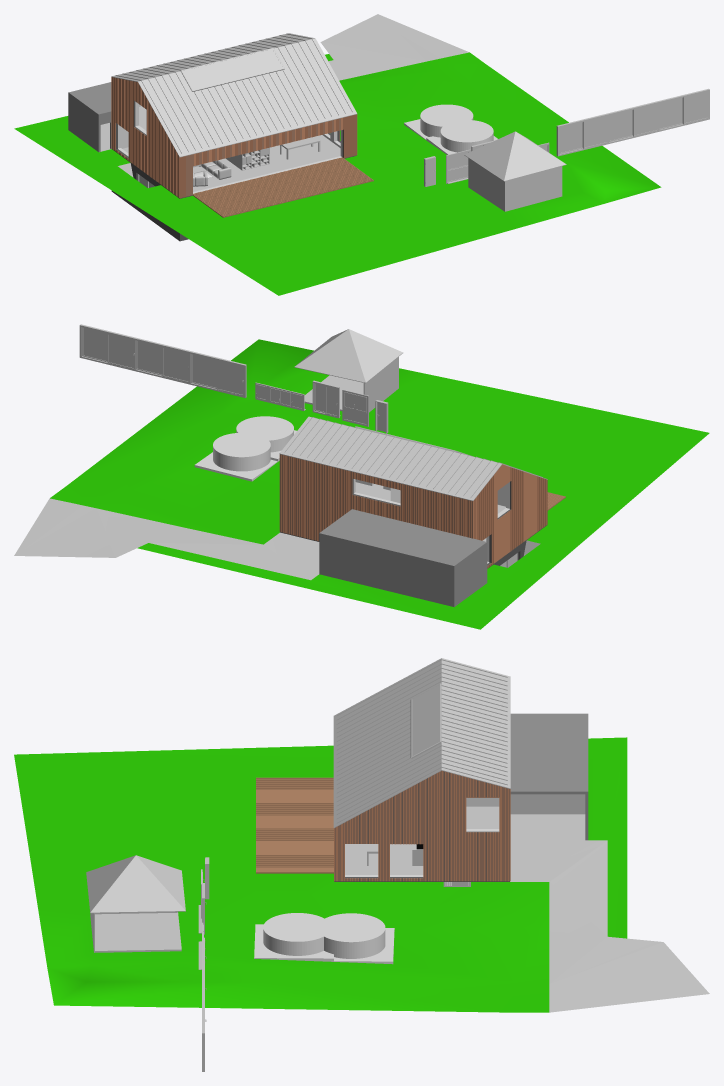
Rendered from VR_haus_langendorf.fbx.
The picture shows the model from 3 angles, top to bottom: view 1: azimuth 30°, elevation 25°; view 2: azimuth 150°, elevation 25°; view 3: azimuth 270°, elevation 25°; orthographic projection. The views are drawn at different scales.
Parts seen in each view (by area): view 1: umgebung, deckeOG, gartenhaus, aussenwand_nord, terasse, aussenwand_west, pool, garage, bodenEG, fensterfront_glas, fensterfront, fensterfront_schiebetuer_2_glas (+3 smaller); view 2: umgebung, garage, deckeOG, aussenwand_ost, aussenwand_nord, gartenhaus, pool, fensterfront_glas, fensterfront, fensterfront_schiebetuer_3_glas, fensterfront_schiebetuer_2_glas, fensterfront_schiebetuer_1_glas; view 3: umgebung, deckeOG, aussenwand_sued, gartenhaus, terasse, garage, pool, bodenEG, garagen_tor, boden_OG.
Boxes of the visible parts, left/top/right/bottom form: umgebung: left=14, top=14, right=661, bottom=295; deckeOG: left=111, top=33, right=357, bottom=157; gartenhaus: left=464, top=131, right=566, bottom=211; aussenwand_nord: left=111, top=77, right=179, bottom=241; terasse: left=193, top=157, right=373, bottom=217; aussenwand_west: left=180, top=114, right=356, bottom=241; pool: left=404, top=104, right=497, bottom=154; garage: left=68, top=82, right=111, bottom=152; bodenEG: left=122, top=135, right=340, bottom=191; fensterfront_glas: left=584, top=92, right=707, bottom=147; fensterfront: left=556, top=88, right=709, bottom=156; fensterfront_schiebetuer_2_glas: left=609, top=110, right=632, bottom=140; umgebung: left=14, top=339, right=709, bottom=629; garage: left=319, top=509, right=487, bottom=606; deckeOG: left=279, top=416, right=547, bottom=501; aussenwand_ost: left=280, top=454, right=472, bottom=541; aussenwand_nord: left=473, top=464, right=547, bottom=568; gartenhaus: left=294, top=329, right=403, bottom=412; pool: left=194, top=416, right=296, bottom=481; fensterfront_glas: left=83, top=328, right=216, bottom=387; fensterfront: left=79, top=324, right=246, bottom=397; fensterfront_schiebetuer_3_glas: left=217, top=361, right=242, bottom=394; fensterfront_schiebetuer_2_glas: left=163, top=348, right=188, bottom=381; fensterfront_schiebetuer_1_glas: left=109, top=334, right=133, bottom=368; umgebung: left=14, top=737, right=709, bottom=1012; deckeOG: left=333, top=658, right=510, bottom=827; aussenwand_sued: left=334, top=770, right=510, bottom=881; gartenhaus: left=86, top=855, right=185, bottom=952; terasse: left=256, top=777, right=333, bottom=873; garage: left=510, top=713, right=588, bottom=840; pool: left=254, top=913, right=394, bottom=964; bodenEG: left=345, top=844, right=423, bottom=874; garagen_tor: left=510, top=794, right=585, bottom=814; boden_OG: left=466, top=806, right=499, bottom=828.
Size of what is drawn, in the model's own units: 4054 by 952 by 3563.
